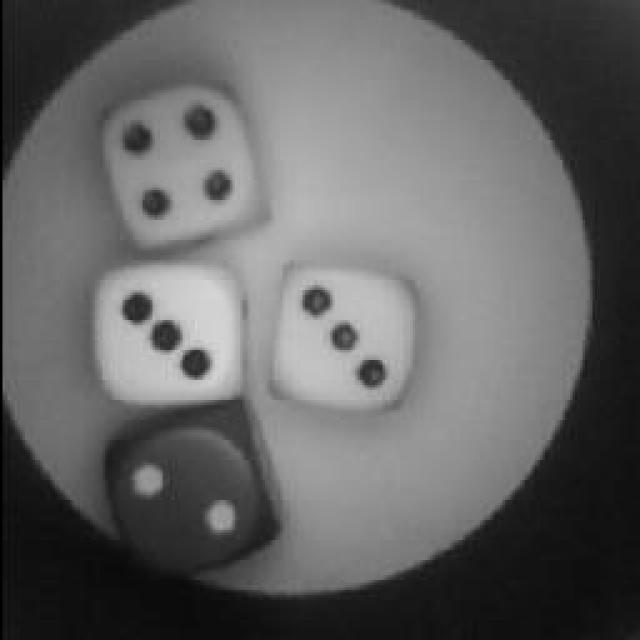dice_2: (100, 415, 278, 583)
dice_3: (88, 252, 252, 418), (260, 255, 418, 415)
dice_4: (92, 82, 270, 242)
